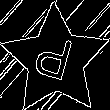P_S: (32, 30, 80, 90)
